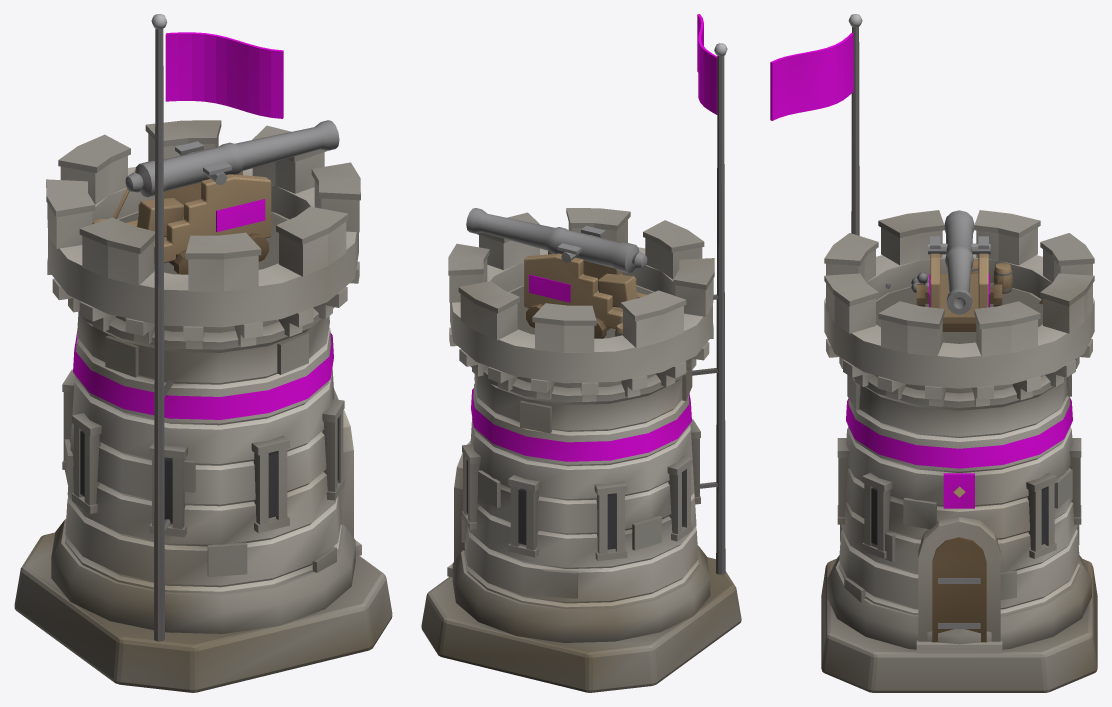
File: cannon_tower.glb
3 renders of one model, left to right at view 1: azimuth 30°, elevation 25°; view 2: azimuth 150°, elevation 25°; view 3: azimuth 270°, elevation 25°, orthographic. The views are drawn at different scales.
Parts seen in each view (by area): view 1: Body, Turret, Barrel; view 2: Body, Turret, Barrel; view 3: Body, Turret, Barrel.
Boxes of the visible parts, <box> form: Body: <box>14,14,392,692</box>; Turret: <box>126,141,271,274</box>; Barrel: <box>125,120,339,197</box>; Body: <box>421,14,741,692</box>; Turret: <box>524,226,646,338</box>; Barrel: <box>466,208,647,273</box>; Body: <box>770,14,1097,692</box>; Turret: <box>916,236,1002,331</box>; Barrel: <box>928,210,990,314</box>.
Size of the model in its own units: 1.94 by 4.48 by 2.3.
Materials: 1 (1 with a texture image).
